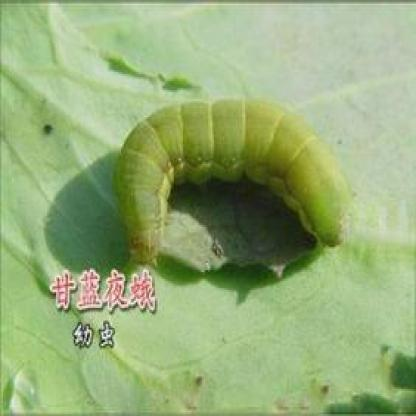armyworm: (115, 92, 360, 274)
